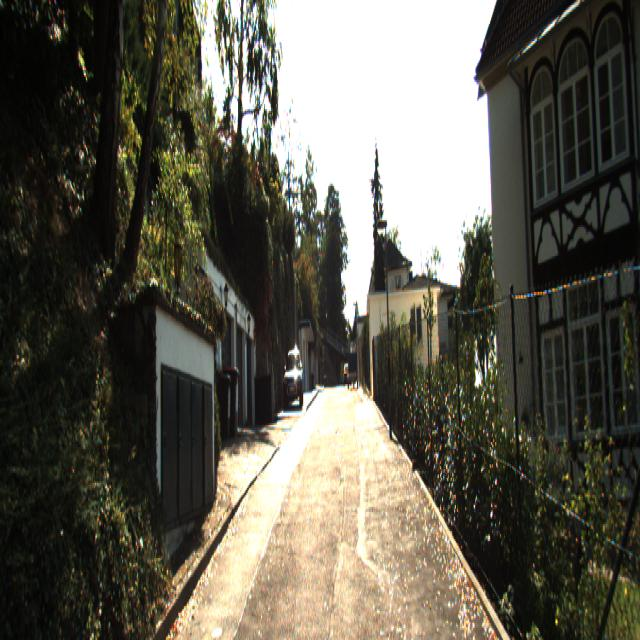Car: (284, 349, 303, 410), (348, 351, 358, 390)
